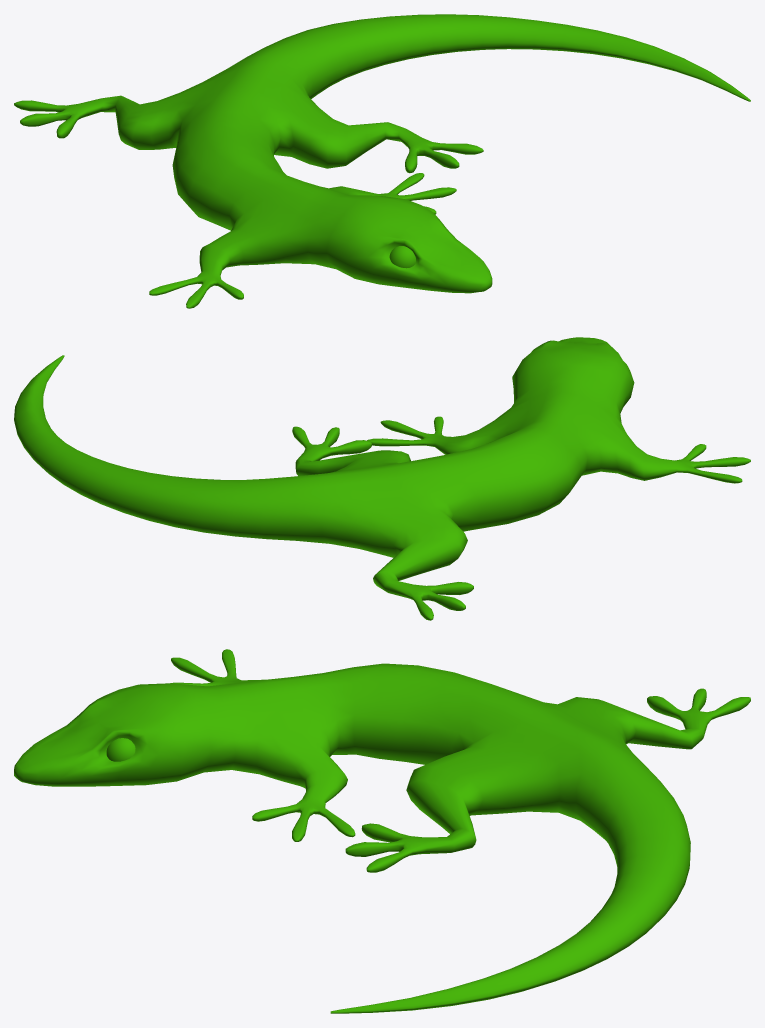
File: Gecko.obj
The picture shows the model from 3 angles, top to bottom: view 1: azimuth 30°, elevation 25°; view 2: azimuth 150°, elevation 25°; view 3: azimuth 270°, elevation 25°; orthographic projection. The views are drawn at different scales.
Parts seen in each view (by area): view 1: gecko; view 2: gecko; view 3: gecko.
Boxes of the visible parts, box(x1,y1,x2,y2) form: gecko: box(14, 14, 750, 308); gecko: box(14, 337, 750, 620); gecko: box(14, 649, 750, 1013).
Bounding box in the file's own units: 30.14 × 3.13 × 25.65.
